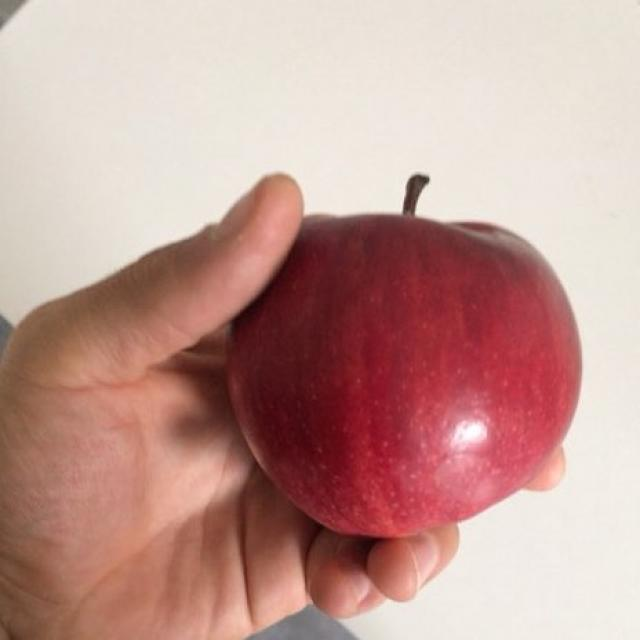apple: (232, 209, 574, 522)
